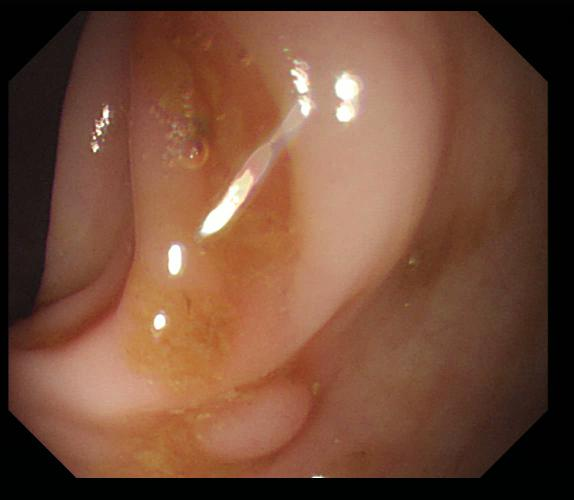polyp: (191, 375, 320, 468)
